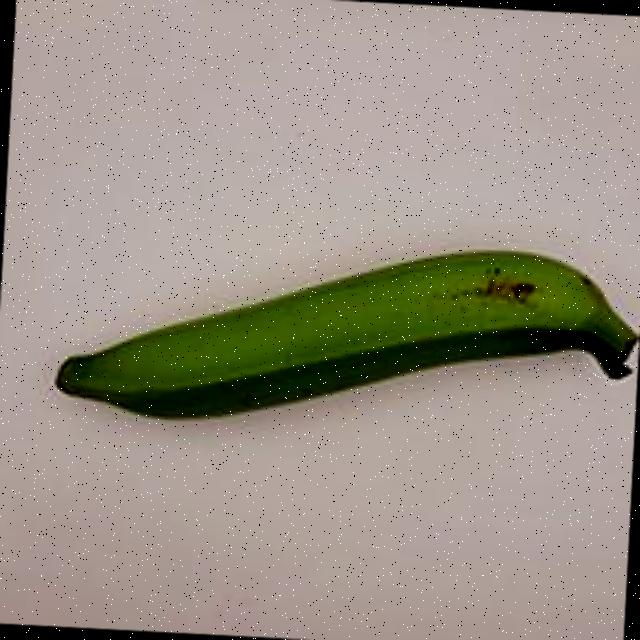Raw: (37, 205, 640, 452)
